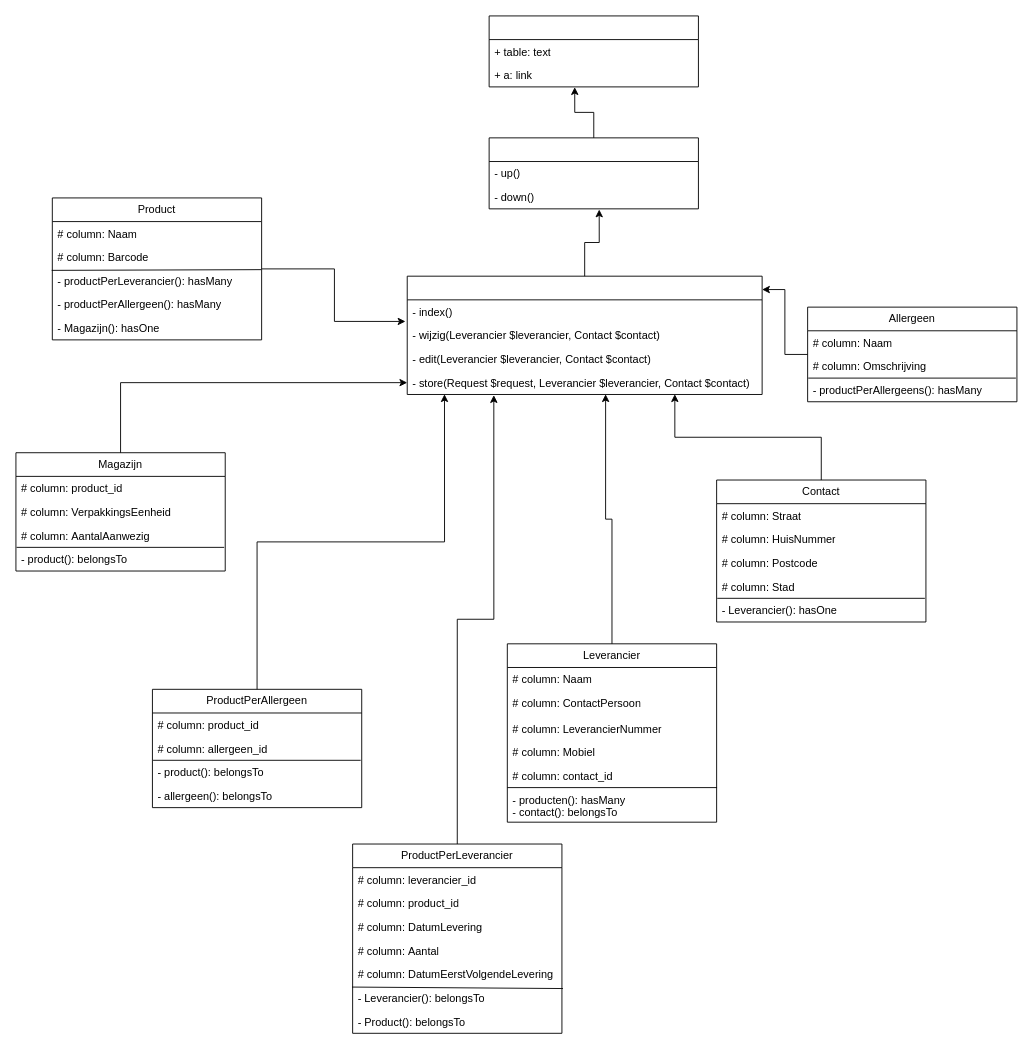
Image size: 1033x1052. Some labels were removed from this diagram. The shapes that lost their labels are listed below. From the top down, each one's box as (x1, y1, x2, y2) in pixels, then its label:
(488, 15, 698, 87): View
(488, 137, 698, 209): DataBase
(406, 275, 762, 394): GegevensController
